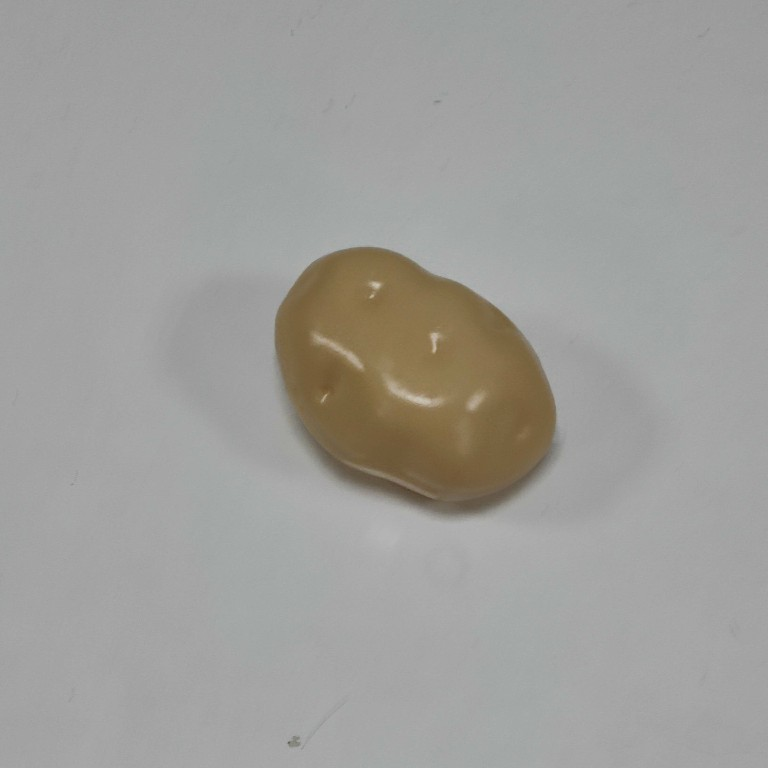fruit_potato: (270, 244, 560, 510)
